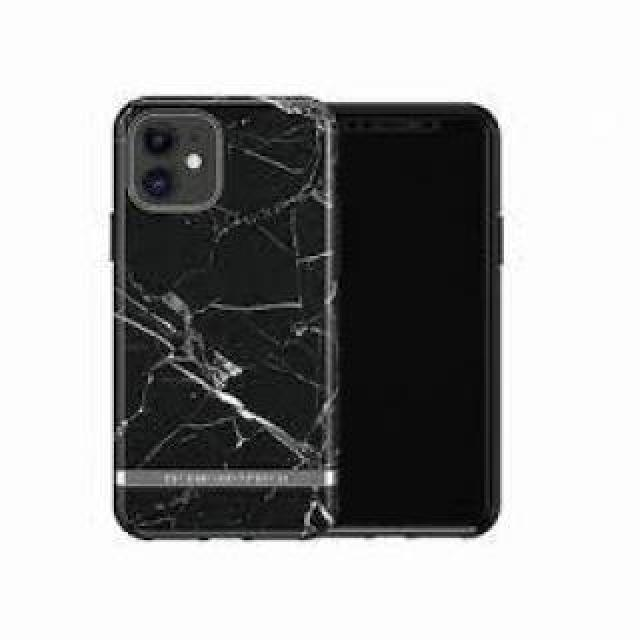smart phone: (93, 63, 332, 557), (342, 95, 502, 562)
